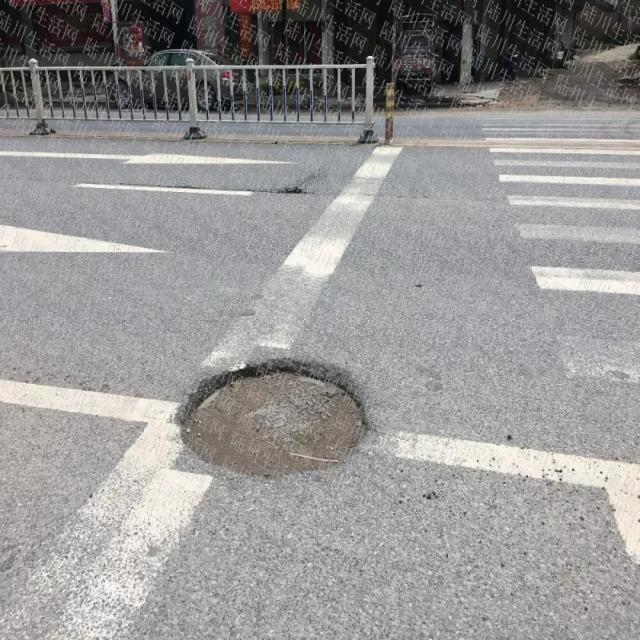Pothole: (176, 360, 372, 480)
